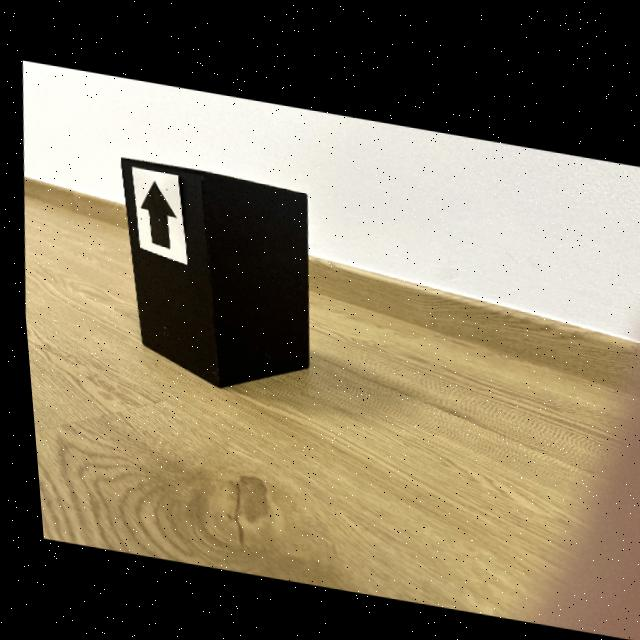UP: (137, 178, 172, 245)
